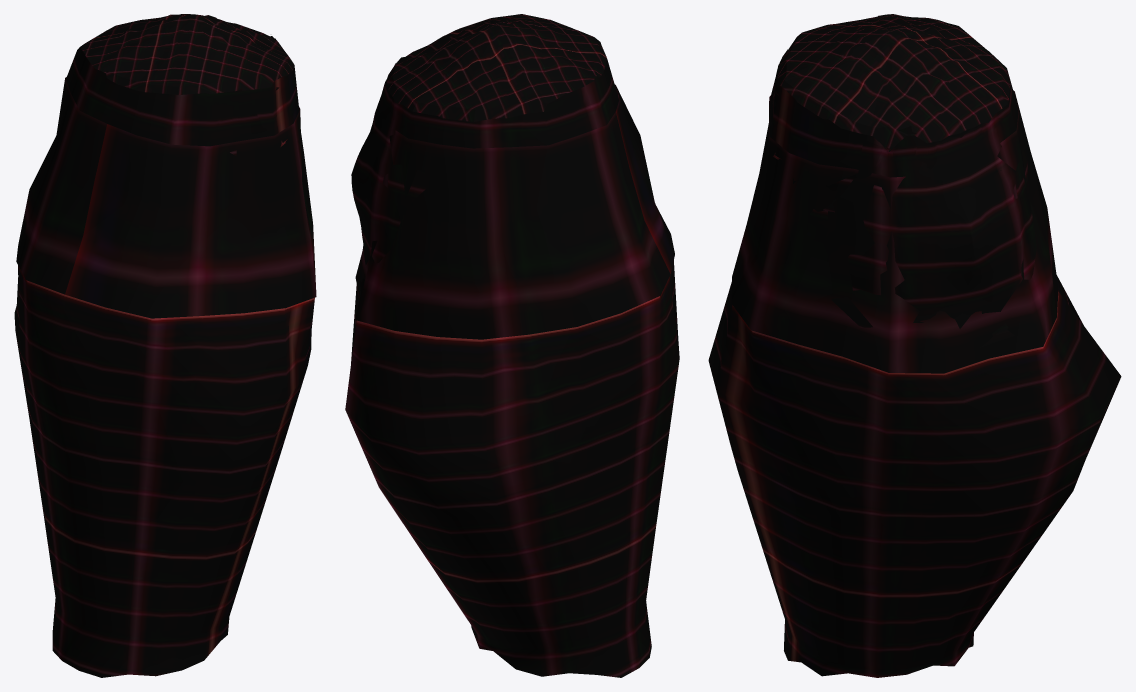
The picture shows the model from 3 angles, left to right: view 1: azimuth 30°, elevation 25°; view 2: azimuth 150°, elevation 25°; view 3: azimuth 270°, elevation 25°; orthographic projection. The views are drawn at different scales.
Visible parts, largest first — view 1: SM_MagicalMending_Sphere_LOD0; view 2: SM_MagicalMending_Sphere_LOD0; view 3: SM_MagicalMending_Sphere_LOD0.
Boxes of the visible parts, bbox=[...] form: SM_MagicalMending_Sphere_LOD0: bbox=[14, 14, 316, 677]; SM_MagicalMending_Sphere_LOD0: bbox=[345, 14, 679, 677]; SM_MagicalMending_Sphere_LOD0: bbox=[708, 14, 1121, 677].
Size of the model in its own units: 1.35 by 2.78 by 1.58.
